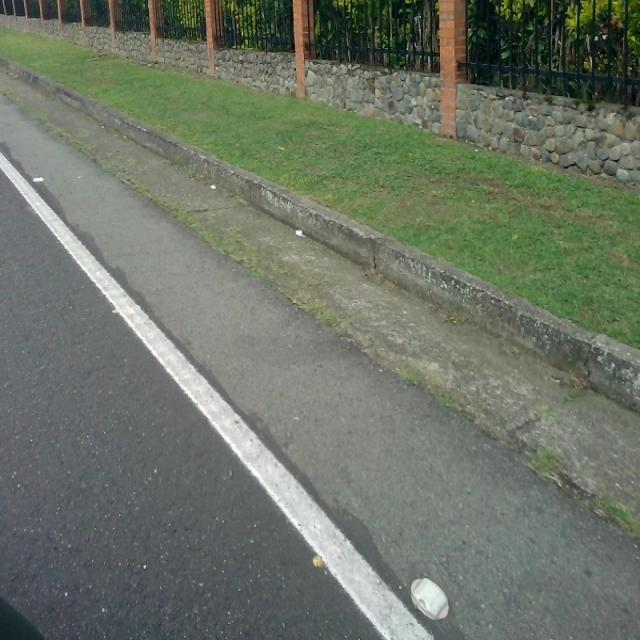DITCH: (21, 21, 638, 635), (1, 62, 639, 638)
